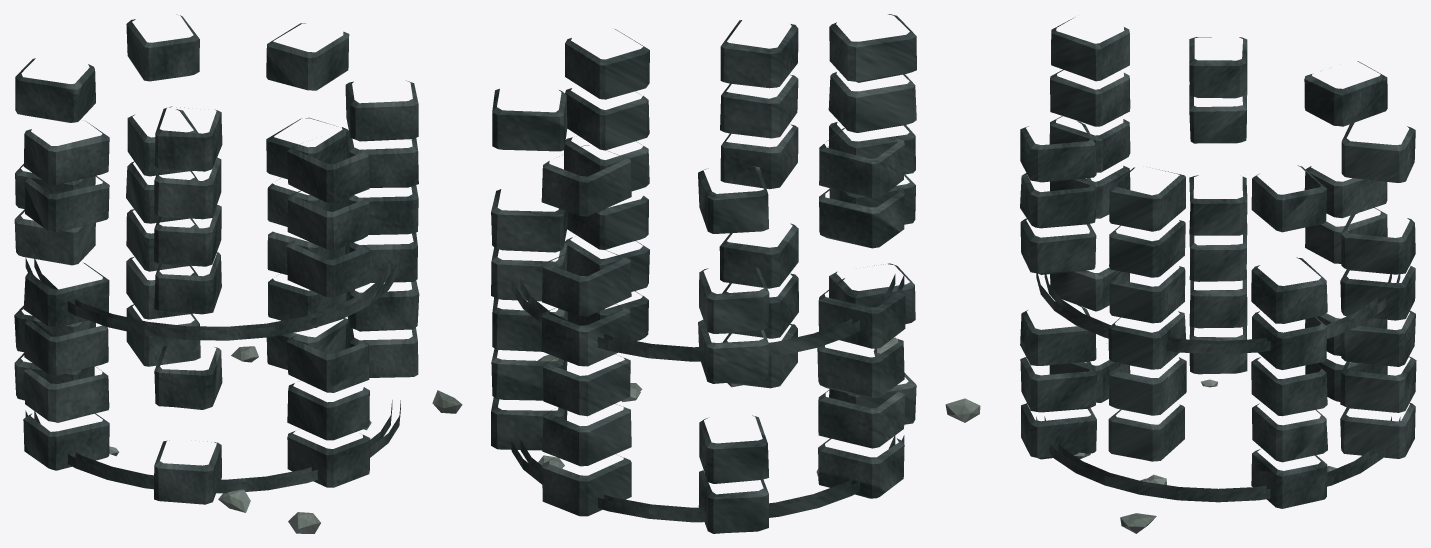
Rendered from 0409_ruined_tower_09.glb.
3 views of the same model, side by side, from view 1: azimuth 30°, elevation 25°; view 2: azimuth 150°, elevation 25°; view 3: azimuth 270°, elevation 25° (orthographic). The views are drawn at different scales.
Visible parts, largest first — view 1: stone_dark, stone; view 2: stone_dark, stone; view 3: stone_dark, stone.
Part boxes in pixels (x1=…): stone_dark: x1=14, y1=14, x2=419, y2=504; stone: x1=109, y1=346, x2=462, y2=533; stone_dark: x1=491, y1=14, x2=916, y2=533; stone: x1=537, y1=337, x2=898, y2=476; stone_dark: x1=1020, y1=18, x2=1416, y2=508; stone: x1=945, y1=379, x2=1336, y2=533.
Bounding box in the file's own units: 3.52 × 3.35 × 3.9.
2 materials, 2 textured.
